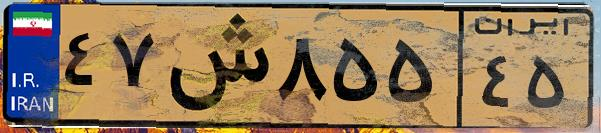4: (57, 26, 110, 100), (475, 38, 525, 113)
5: (385, 28, 445, 110), (330, 28, 385, 110), (525, 38, 570, 115)
7: (110, 28, 158, 98)
8: (270, 28, 330, 110)
ش: (158, 12, 270, 120)
